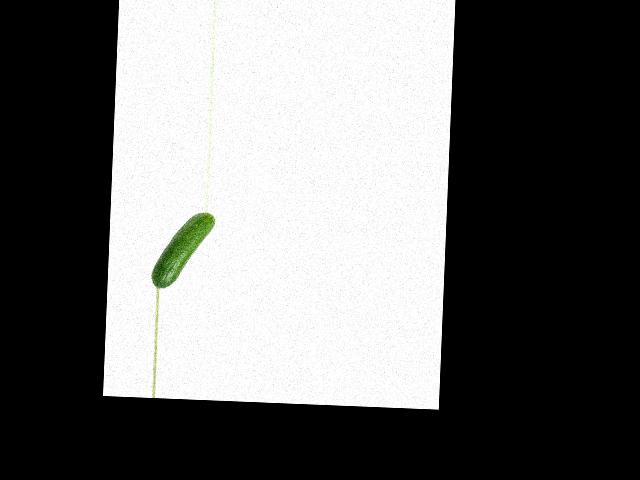cucumber: (150, 210, 215, 291)
